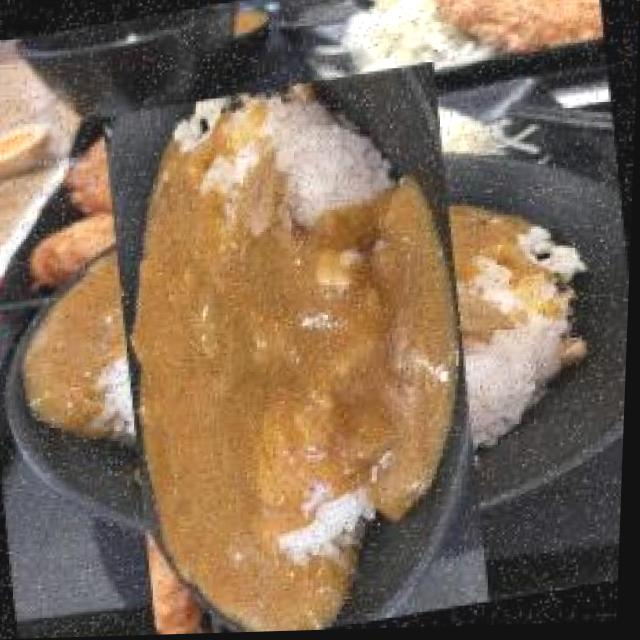curry: (40, 110, 559, 625)
